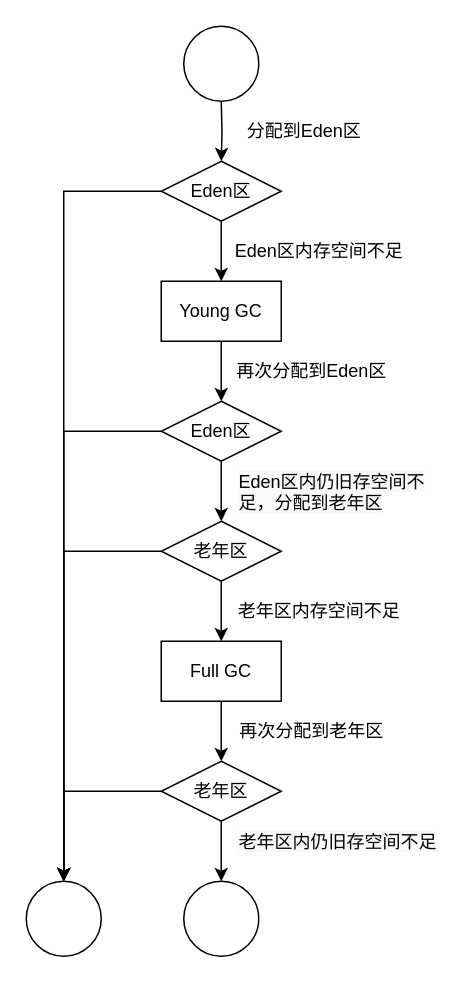
The diagram is 473 pixels wide and 983 high, and some of its shapes have lost their labels. Each missing label, with the centre of its shape:
OOM: the point at 220,918
成功 分配: the point at 63,918
新对象: the point at 220,63
